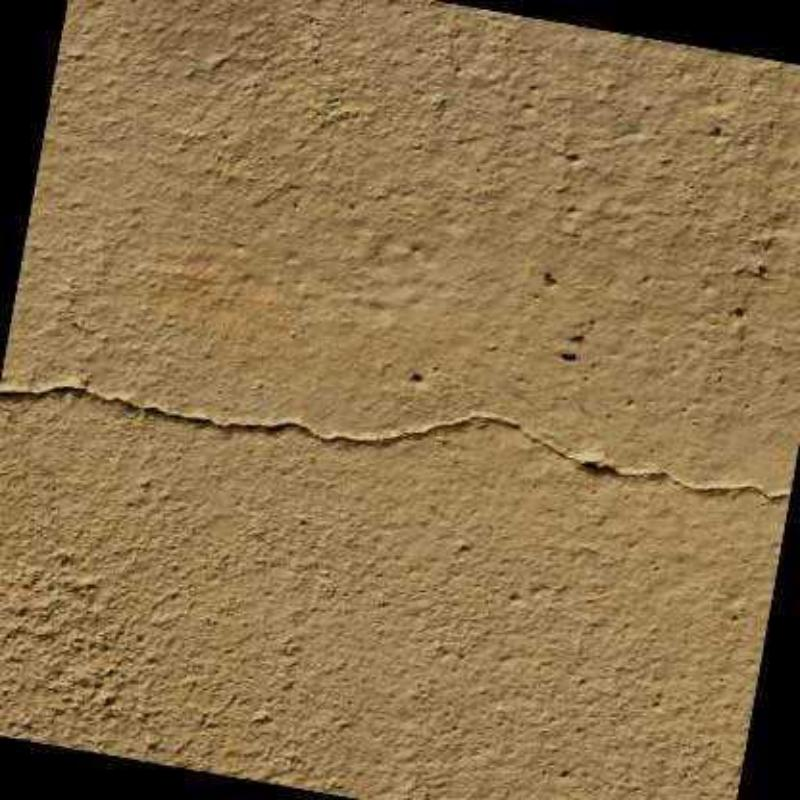pothole: (0, 388, 790, 502)
